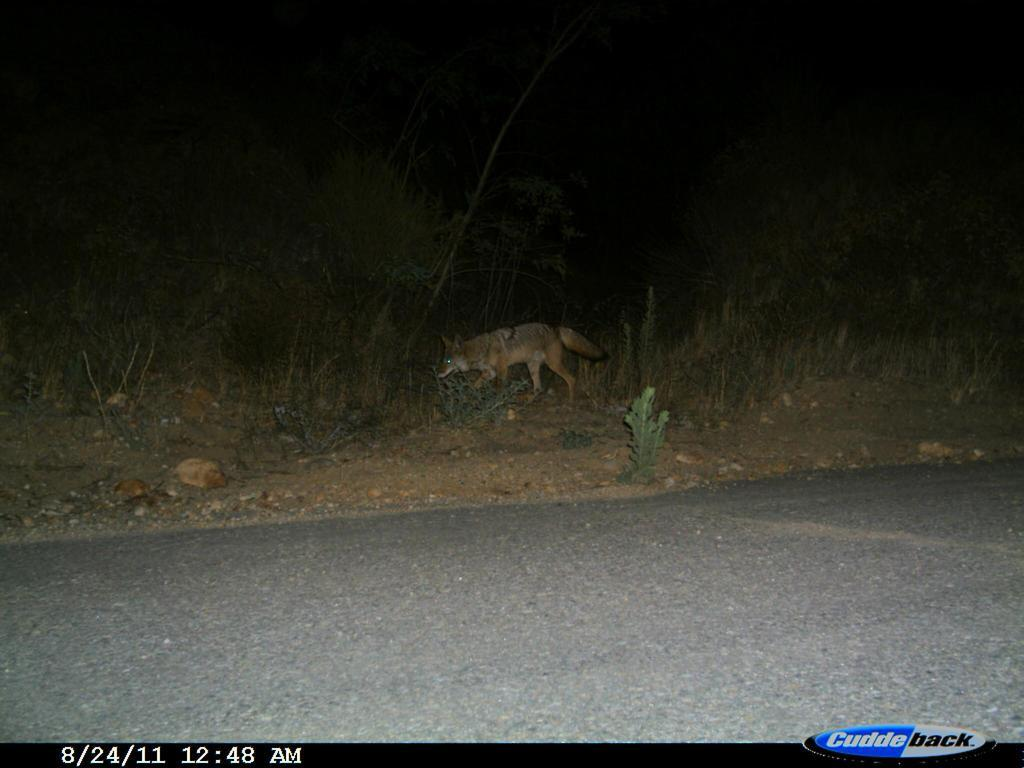coyote: (431, 313, 614, 425)
